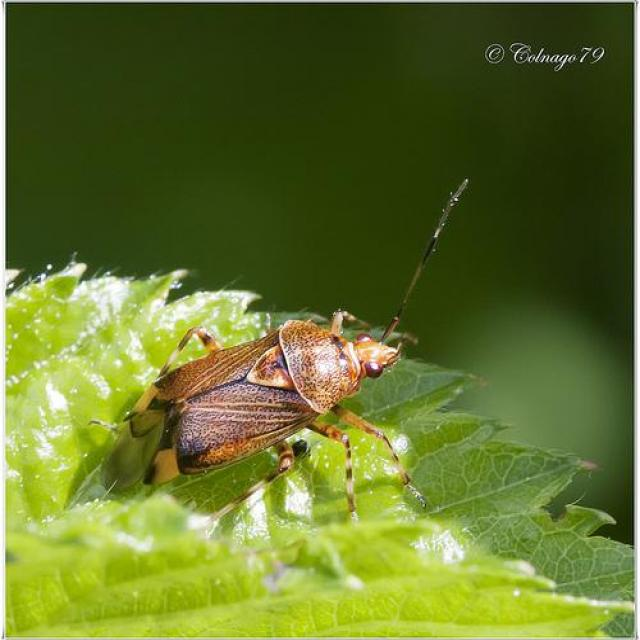Miridae-Adult-: (110, 173, 472, 526)
